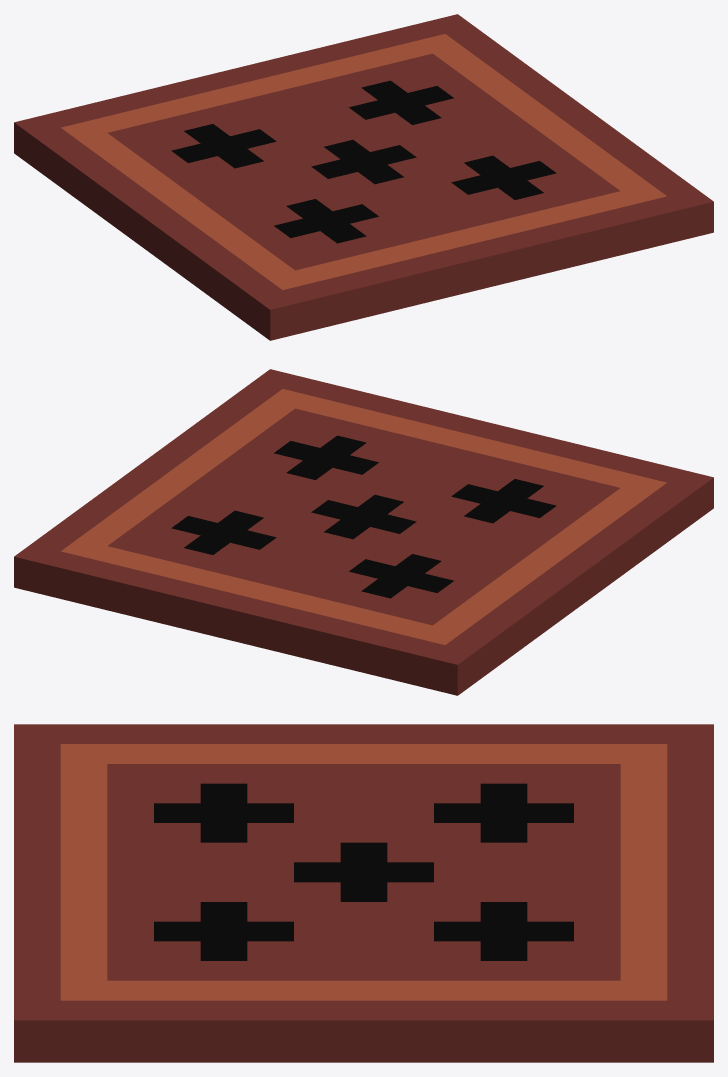
The model's file is dungeon_b_a_ground_b_b.obj.
The picture shows the model from 3 angles, top to bottom: view 1: azimuth 30°, elevation 25°; view 2: azimuth 150°, elevation 25°; view 3: azimuth 270°, elevation 25°; orthographic projection. The views are drawn at different scales.
Size of the model in its own units: 1.5 by 0.1 by 1.5.
Materials: 1 (1 with a texture image).
